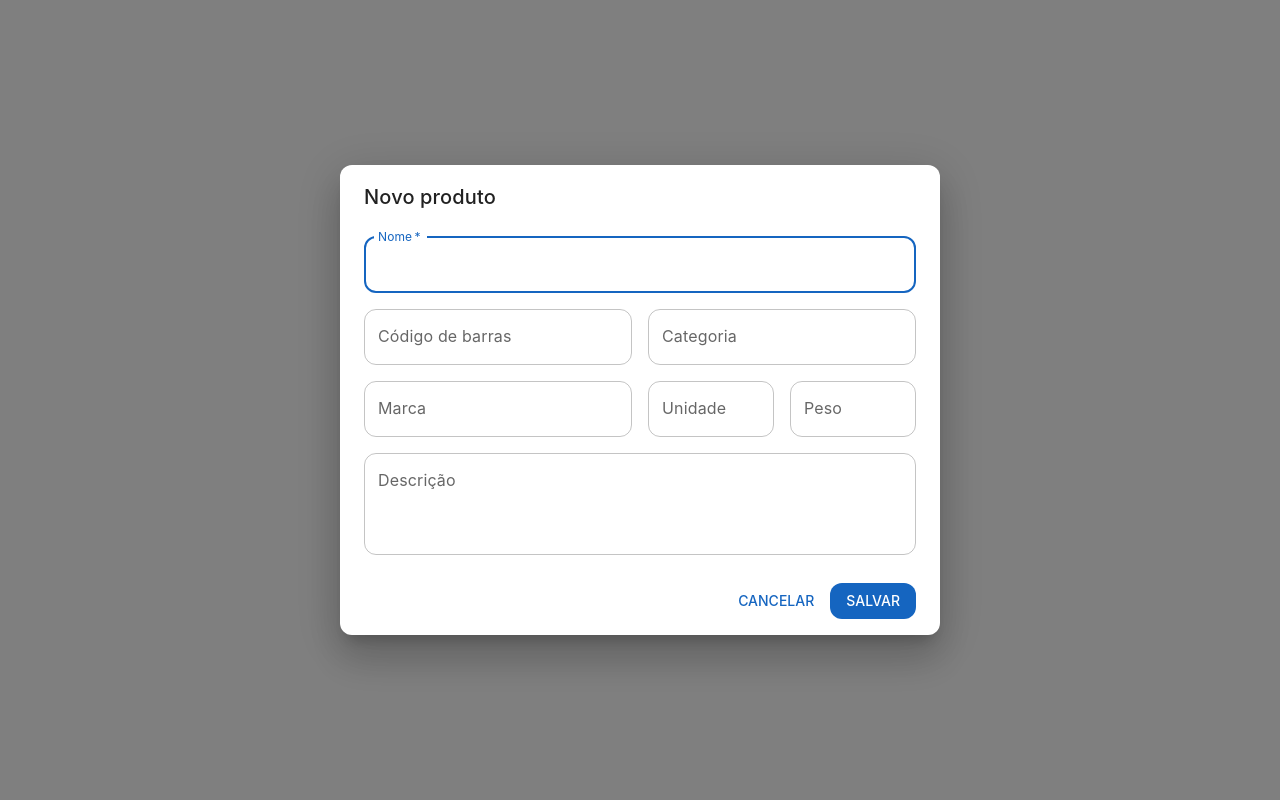
Test: ProductDialog › blocks submission when the product name is empty
What coordinates should you click on to do the following:
click the button "Salvar"
I would click on:
 (873, 601)
Its box is [830,583,916,619].
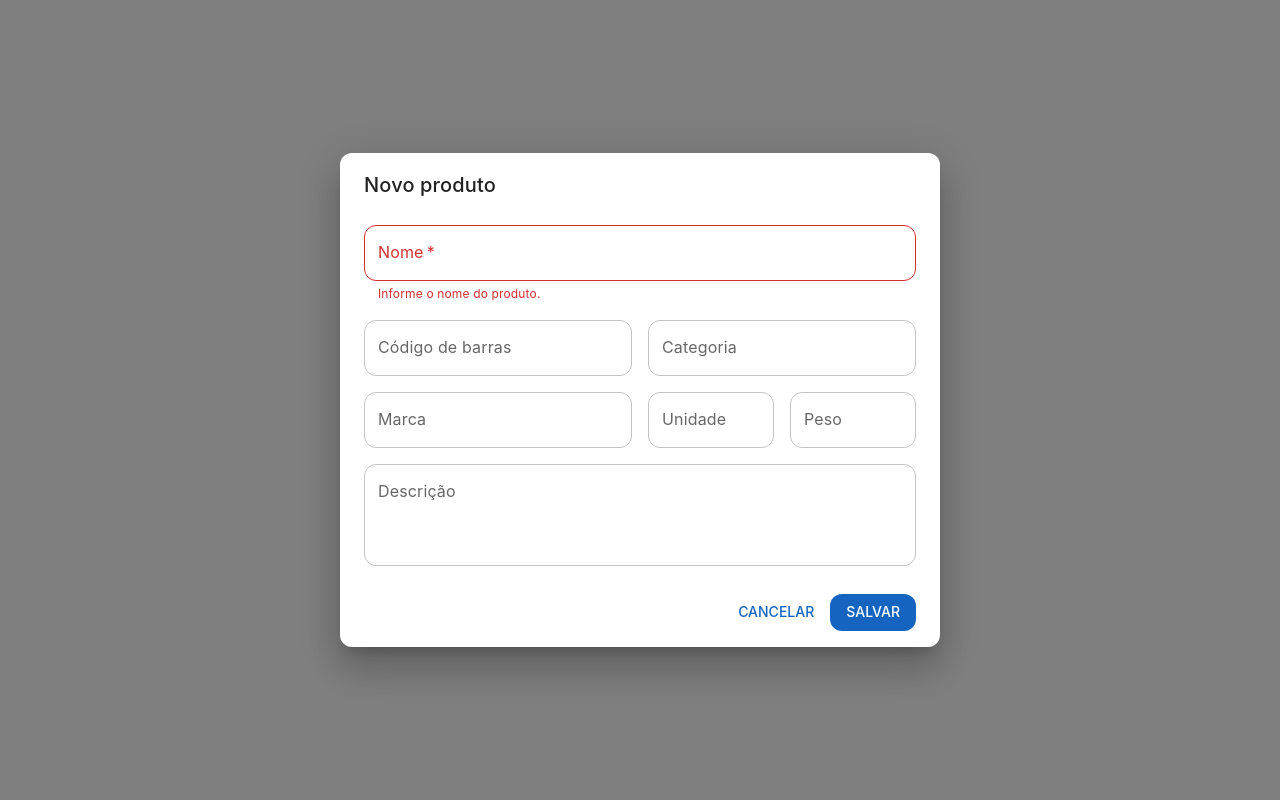
Expected: the text "Informe o nome do produto." is shown, [378,286,540,301]
